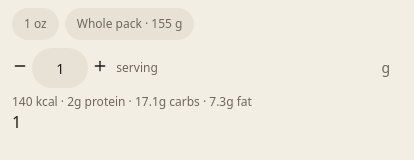
Test case: ServingAmount › a packaged food › starts on the label serving the source gave, not on 100 g
The width and height of the screenshot is (414, 160).
Click the button named "Enter the amount in grams" at (386, 68), box x1=369 y1=48 x2=402 y2=88
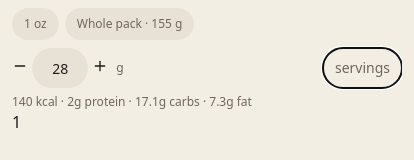
Expected: the field named "Amount in grams" holds "28", x1=32 y1=48 x2=88 y2=88
